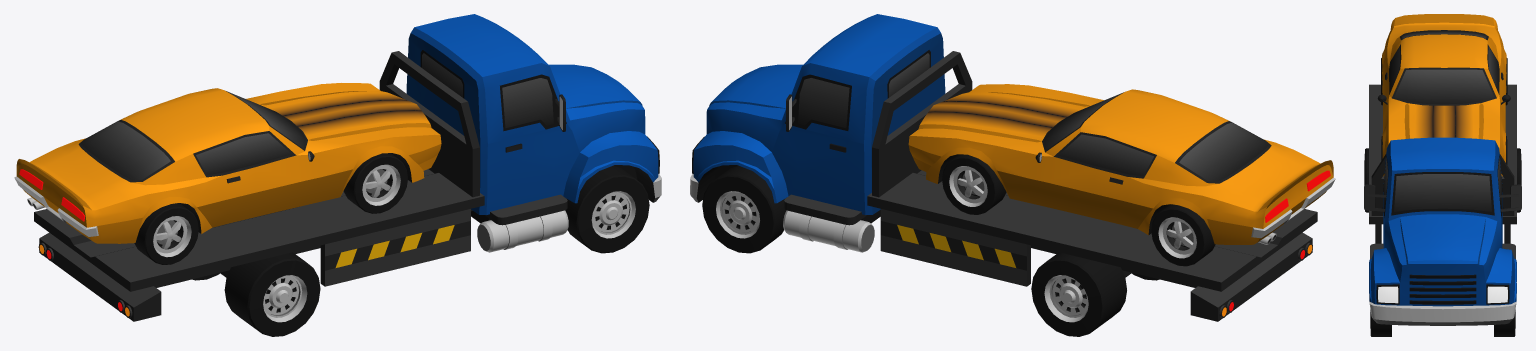
Rendered from Emergency_004.glb.
3 views of the same model, side by side, from view 1: azimuth 30°, elevation 25°; view 2: azimuth 150°, elevation 25°; view 3: azimuth 270°, elevation 25° (orthographic). The views are drawn at different scales.
Visible parts, largest first — view 1: Emergency_004, wheel_3_Emergency_004_Wheel_2R, wheel_1_Emergency_004_Wheel_1R; view 2: Emergency_004, wheel_2_Emergency_004_Wheel_2L, wheel_0_Emergency_004_Wheel_1L; view 3: Emergency_004, wheel_0_Emergency_004_Wheel_1L, wheel_1_Emergency_004_Wheel_1R, wheel_2_Emergency_004_Wheel_2L, wheel_3_Emergency_004_Wheel_2R.
Boxes of the visible parts, box(x1,y1,x2,y2) form: Emergency_004: box(14, 14, 661, 321); wheel_3_Emergency_004_Wheel_2R: box(224, 252, 320, 336); wheel_1_Emergency_004_Wheel_1R: box(565, 166, 649, 253); Emergency_004: box(690, 14, 1335, 321); wheel_2_Emergency_004_Wheel_2L: box(1031, 252, 1126, 336); wheel_0_Emergency_004_Wheel_1L: box(702, 166, 786, 253); Emergency_004: box(1364, 14, 1521, 325); wheel_0_Emergency_004_Wheel_1L: box(1494, 310, 1515, 336); wheel_1_Emergency_004_Wheel_1R: box(1370, 310, 1391, 336); wheel_2_Emergency_004_Wheel_2L: box(1517, 148, 1521, 212); wheel_3_Emergency_004_Wheel_2R: box(1364, 148, 1368, 212).
Size of the model in its own units: 7.57 by 2.5 by 2.34.
3 materials, 3 textured.
